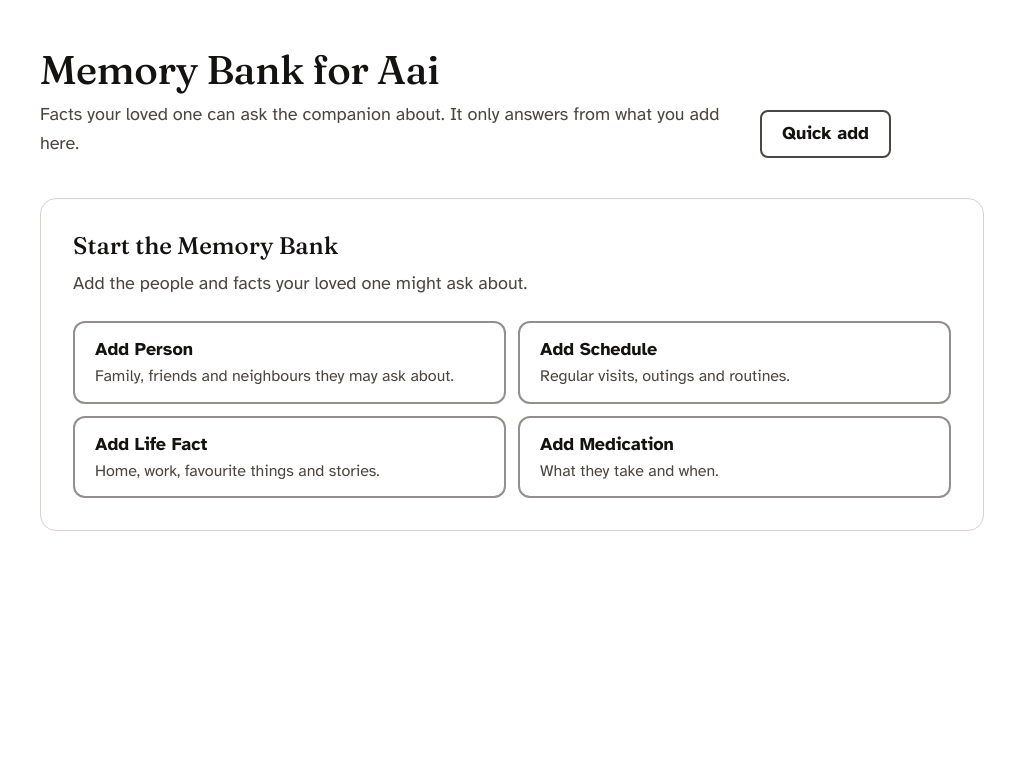
it: Memory Bank editor › caregiver can add a person entry and it appears in the People section
This screenshot has width=1024, height=768.
Click the button "Add Person": (115, 349) top-left (73, 321), bottom-right (506, 404)
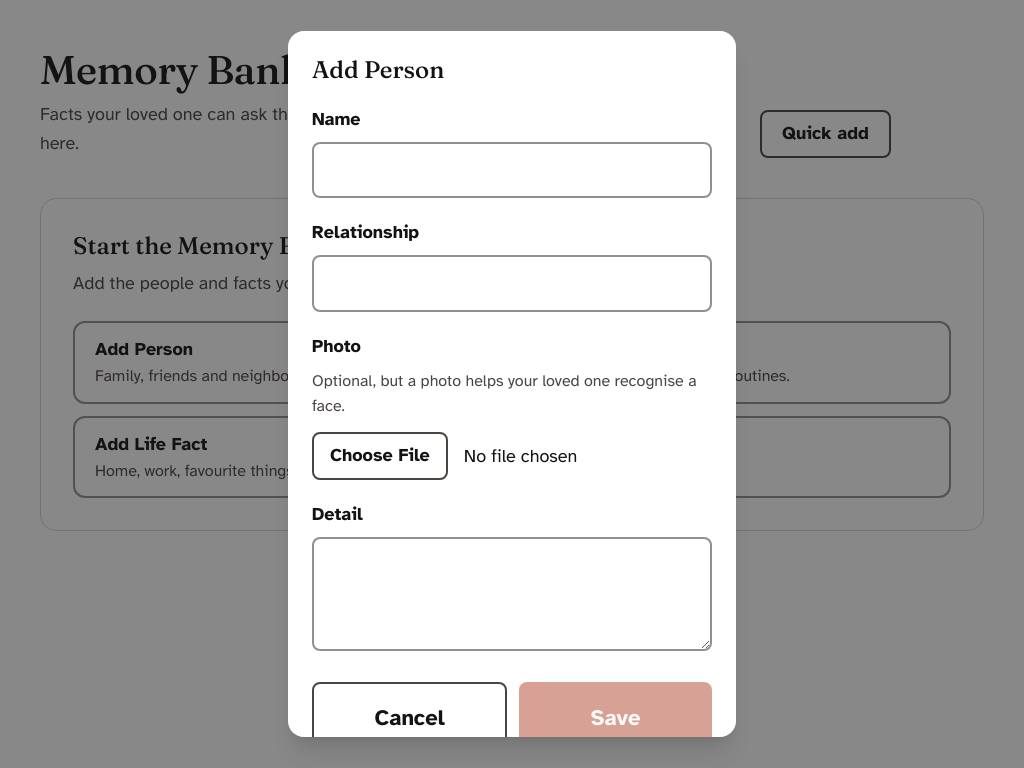
In the field labelled "Name": (512, 170) top-left (312, 142), bottom-right (712, 198), type "Arun"
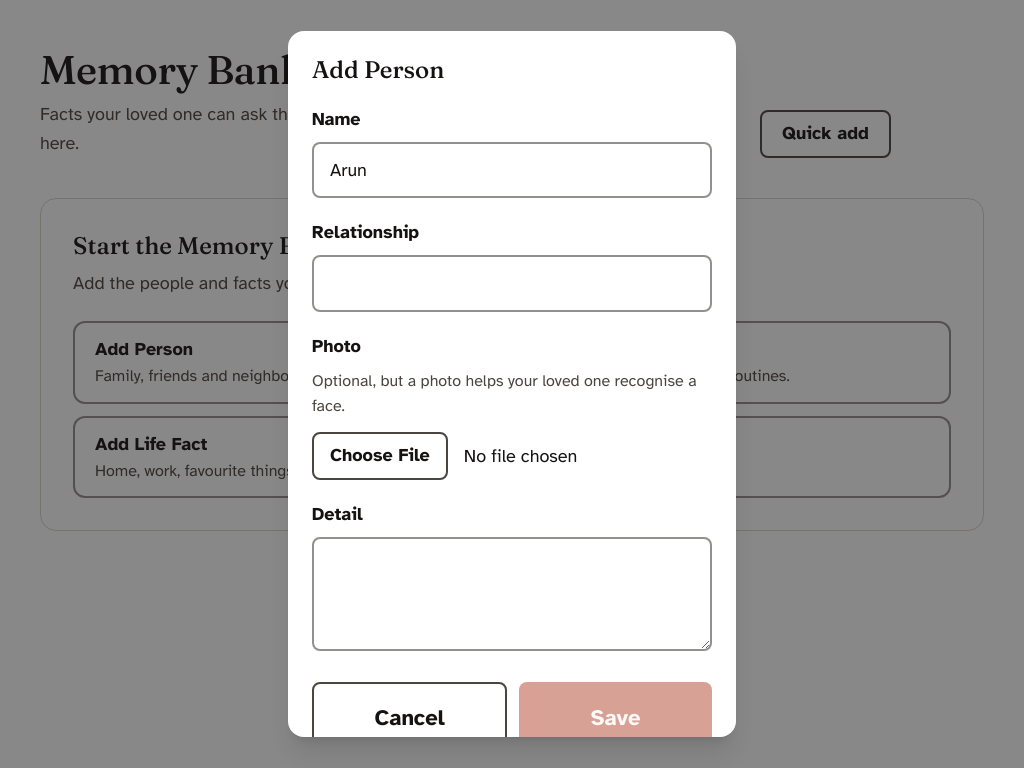
In the field labelled "Relationship": (512, 284) top-left (312, 255), bottom-right (712, 312), type "Son"
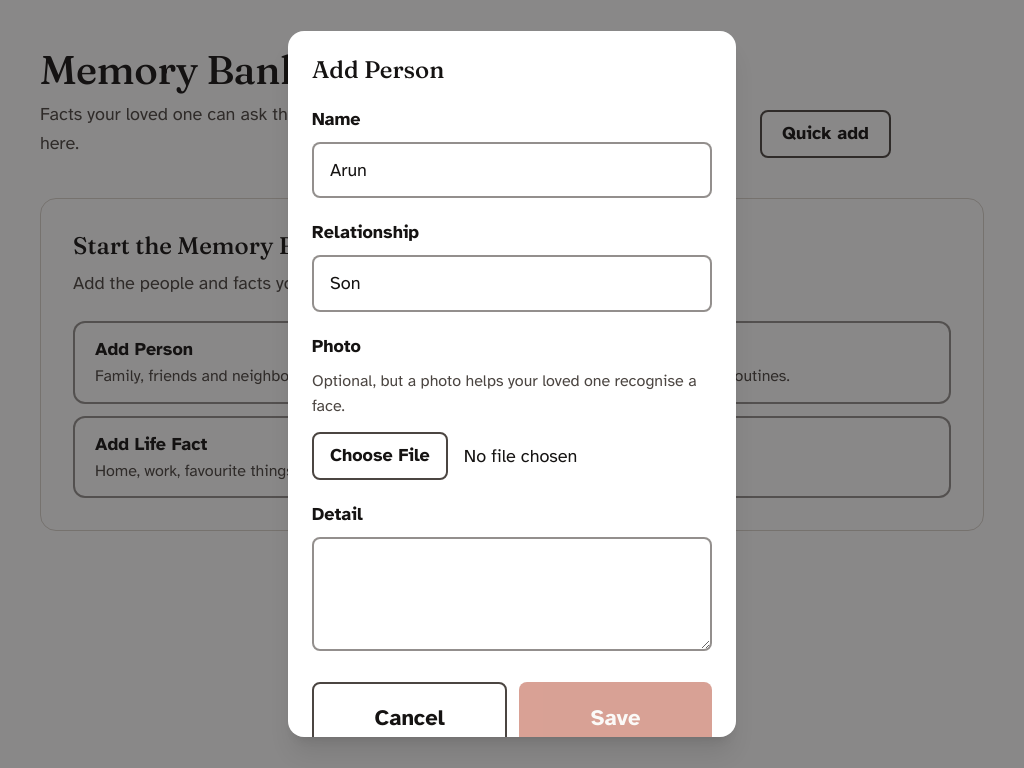
In the text box labelled "Detail": (512, 594) top-left (312, 537), bottom-right (712, 651), type "Your son, visits every Sunday afternoon"
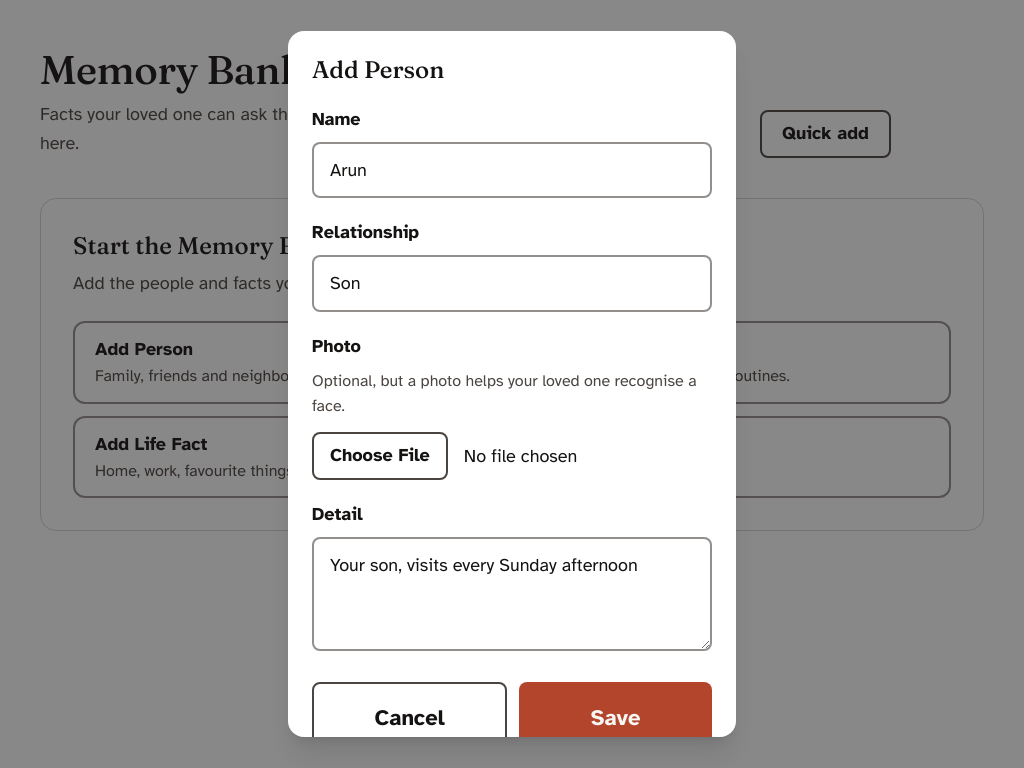
Click the button "Save": (616, 718) top-left (519, 682), bottom-right (712, 754)
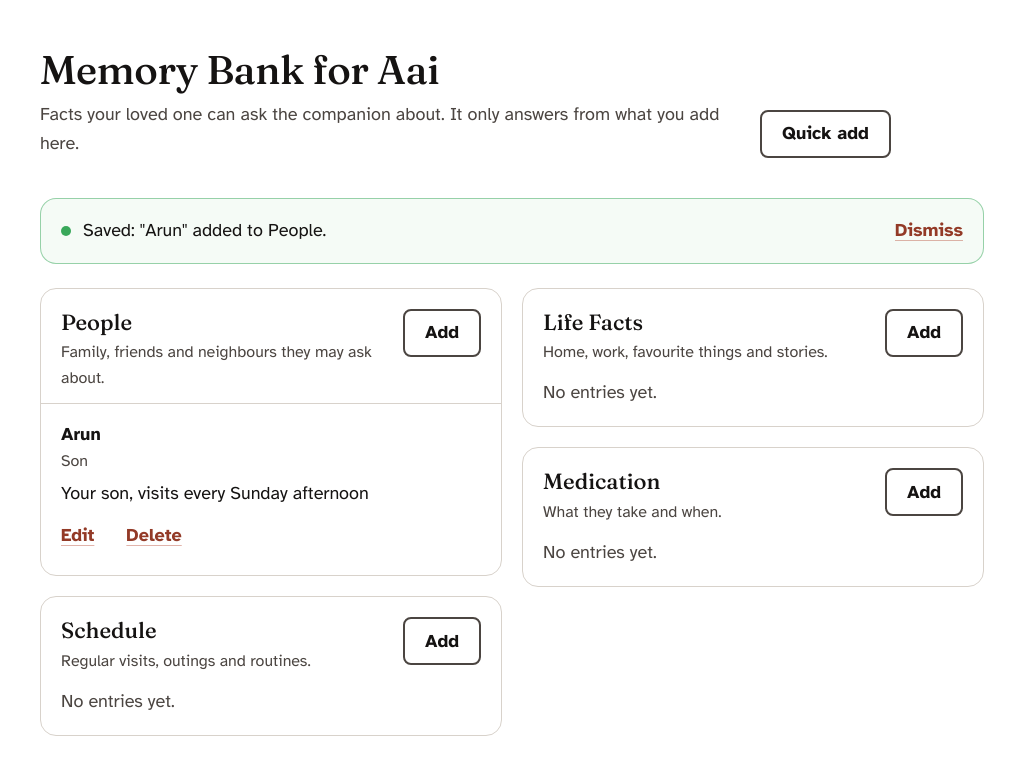
expect the text "Arun" is shown: met, box top-left (61, 423), bottom-right (101, 445)
expect the text "Your son, visits every Sunday afternoon" is shown: met, box top-left (61, 482), bottom-right (369, 504)
